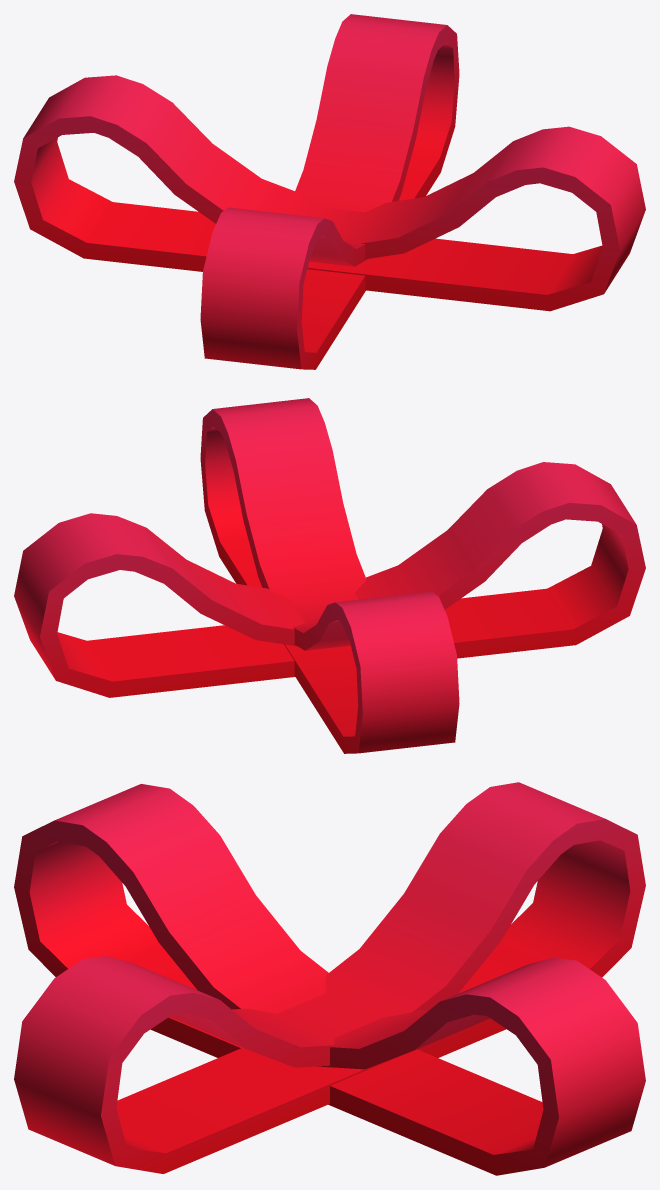
The model's file is bow_003.fbx.
The picture shows the model from 3 angles, top to bottom: view 1: azimuth 30°, elevation 25°; view 2: azimuth 150°, elevation 25°; view 3: azimuth 270°, elevation 25°; orthographic projection. The views are drawn at different scales.
Parts seen in each view (by area): view 1: bow_003; view 2: bow_003; view 3: bow_003.
Part boxes in pixels (left/top/right/bottom): bow_003: left=14, top=14, right=645, bottom=369; bow_003: left=14, top=398, right=645, bottom=753; bow_003: left=14, top=782, right=645, bottom=1175.
Size of the model in its own units: 167 by 167 by 51.72.
